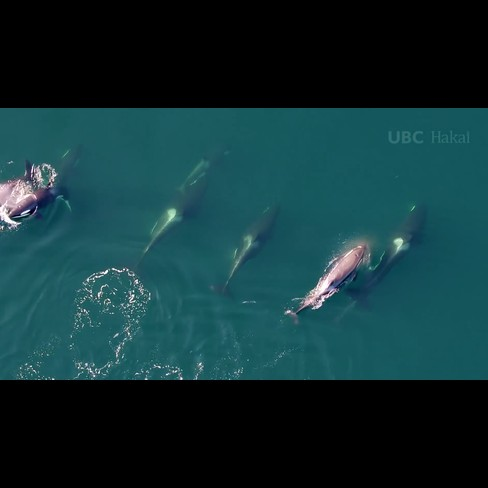orca: (125, 148, 223, 282), (340, 197, 431, 314), (216, 181, 290, 302), (283, 233, 373, 325), (5, 176, 79, 228)
